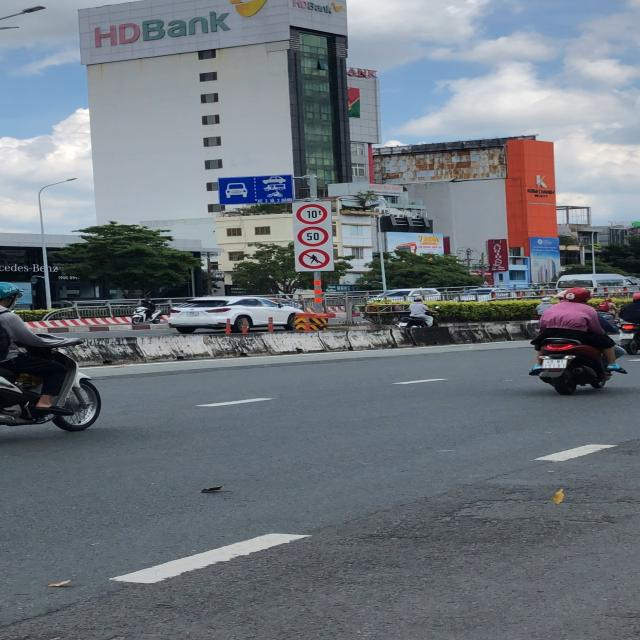Bien bao toc do toi da cho phep: (295, 226, 334, 248)
